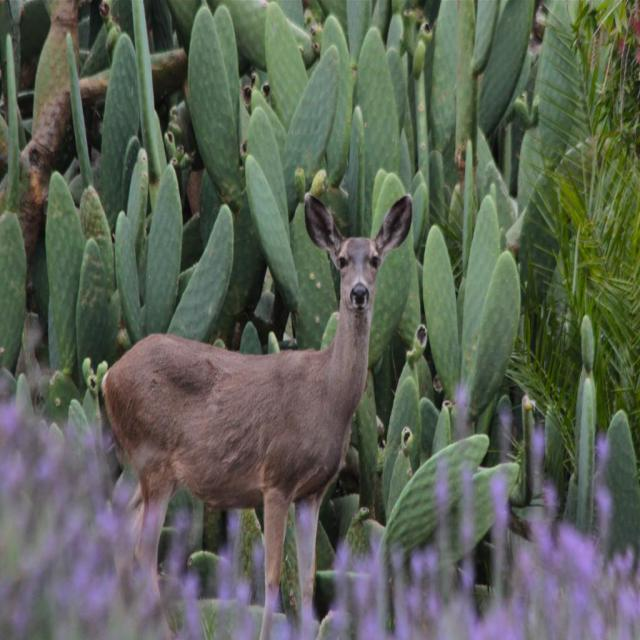Deer: (98, 195, 410, 640)
